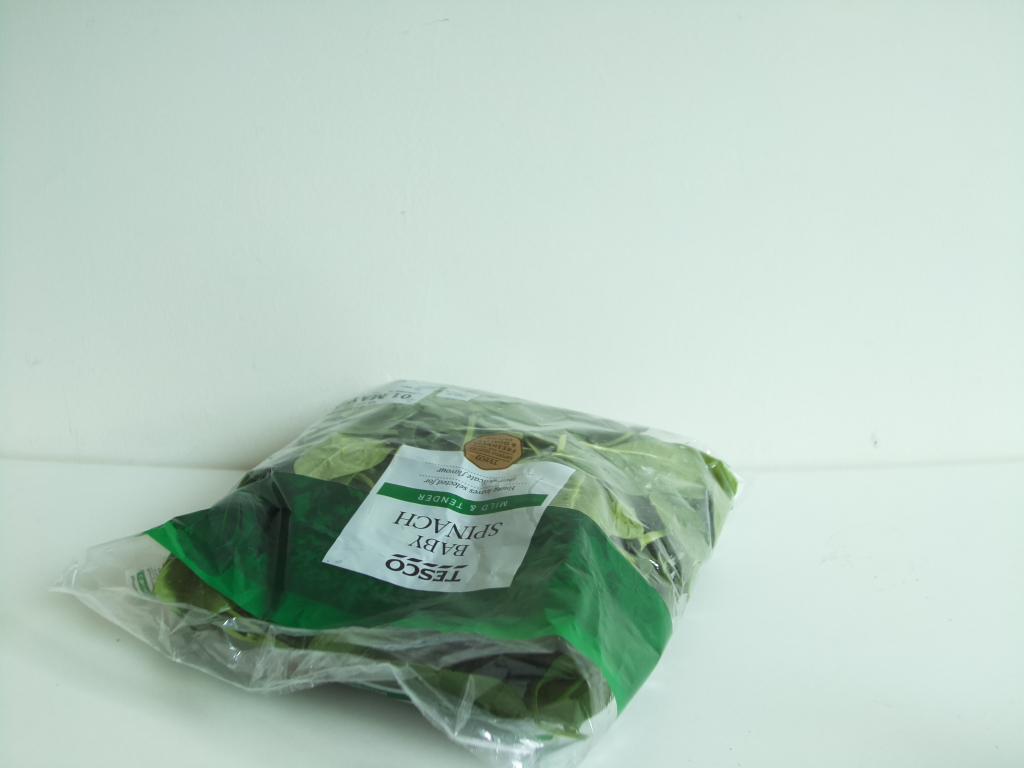salad: (52, 387, 736, 766)
